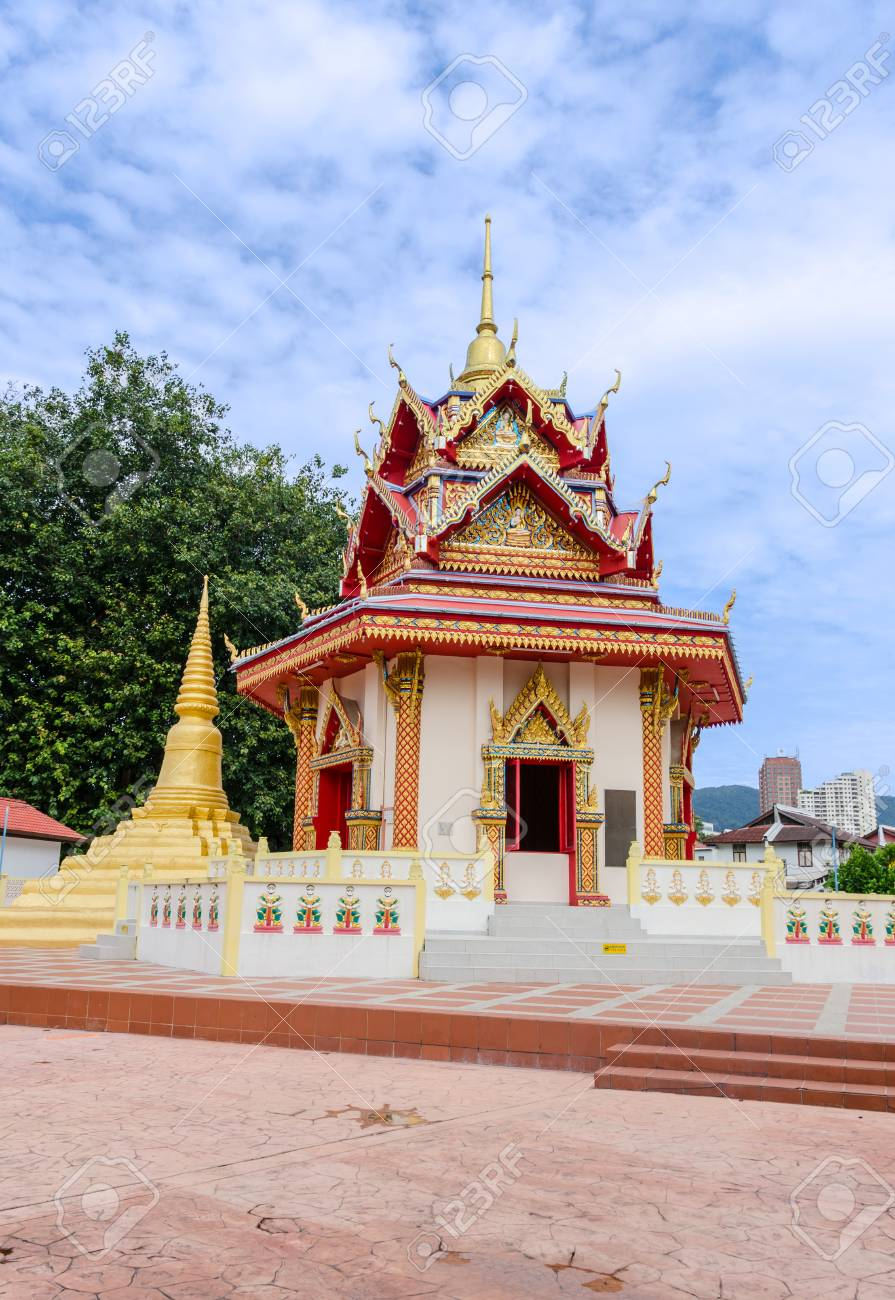Buddhist Temple: (161, 209, 691, 950)
